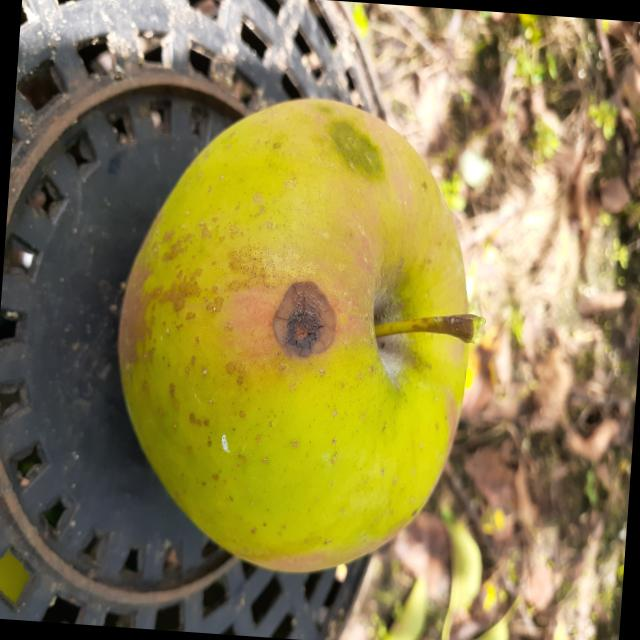rotten: (94, 81, 497, 592)
